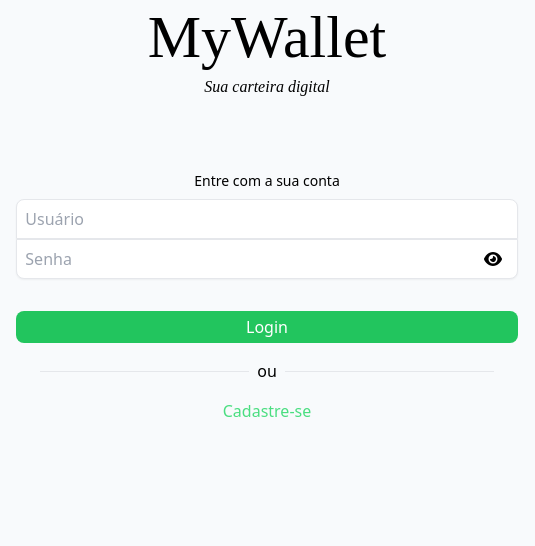
RoutesNavigator › should navigate to signup
Expected: the text "Entre com a sua conta" is shown, [194,171,340,191]
Click the link "Cadastre-se" at (267, 411), box [223,399,311,423]
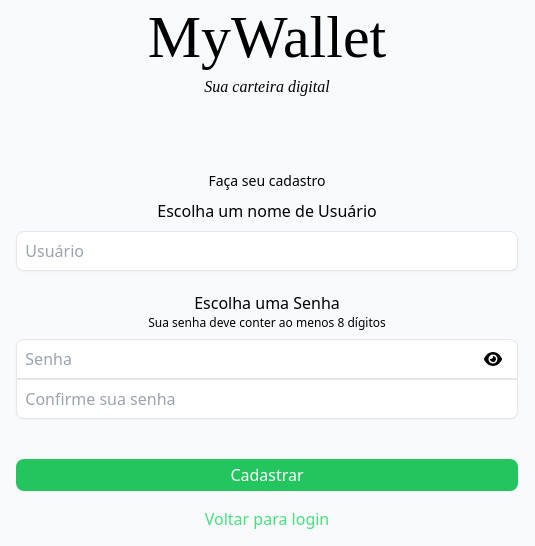
Result: the text "Faça seu cadastro" is shown at [208,171,326,191]
